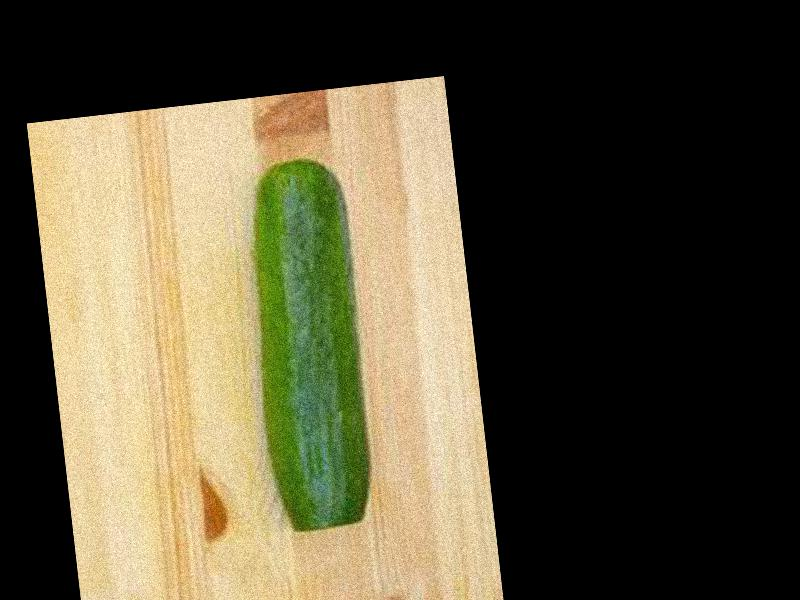Cucumber: (240, 155, 380, 531)
